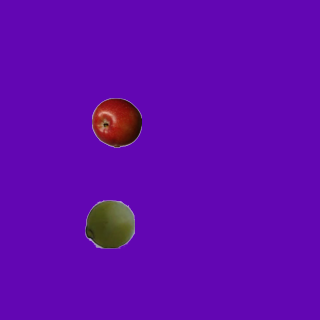Apple Braeburn: (91, 97, 141, 147)
Grape White 4: (84, 198, 134, 248)
